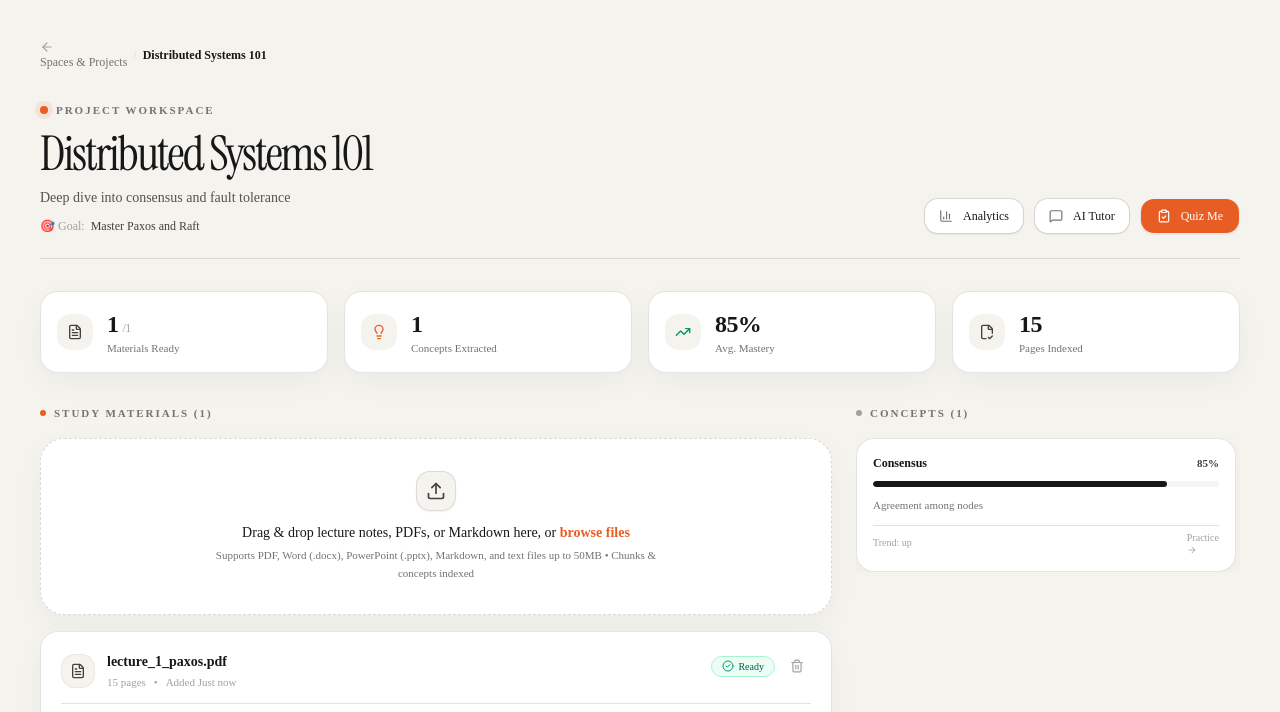
Test case: ProjectDetailContent — Real Component-Level Material Deletion Tests › 7. deleting all materials renders empty state immediately
// Delete the only material
Click the button named "Delete lecture_1_paxos.pdf" at (797, 666), box [783,652,811,680]
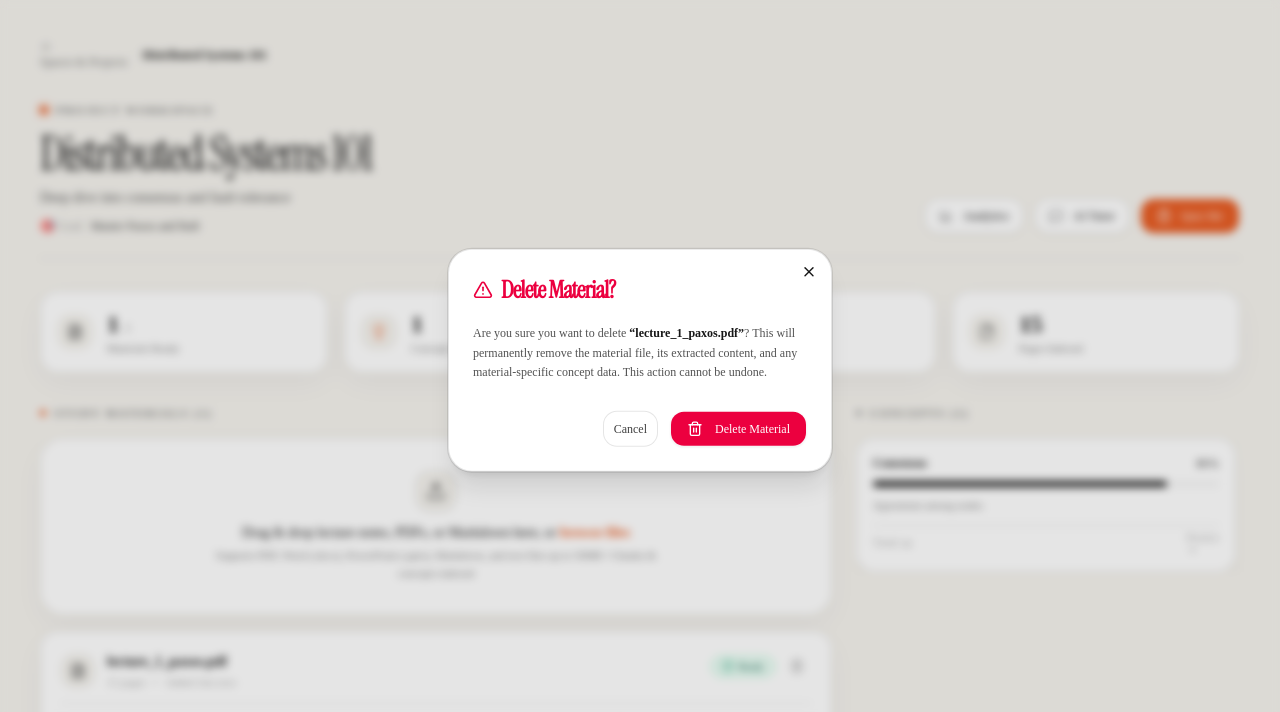
Click the button "Delete Material" at (738, 428), box [670,410,807,446]
(page scrolled)
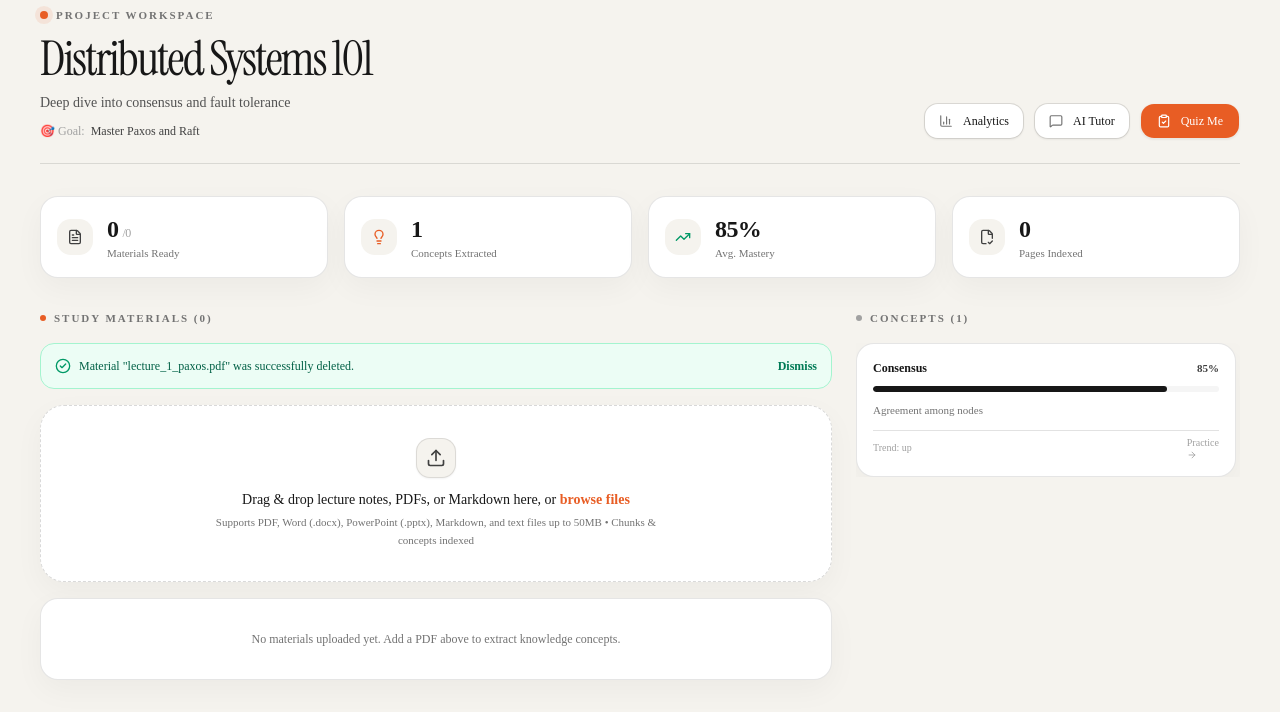
Check: the text "No materials uploaded yet" is shown, box [252,632,620,646]
